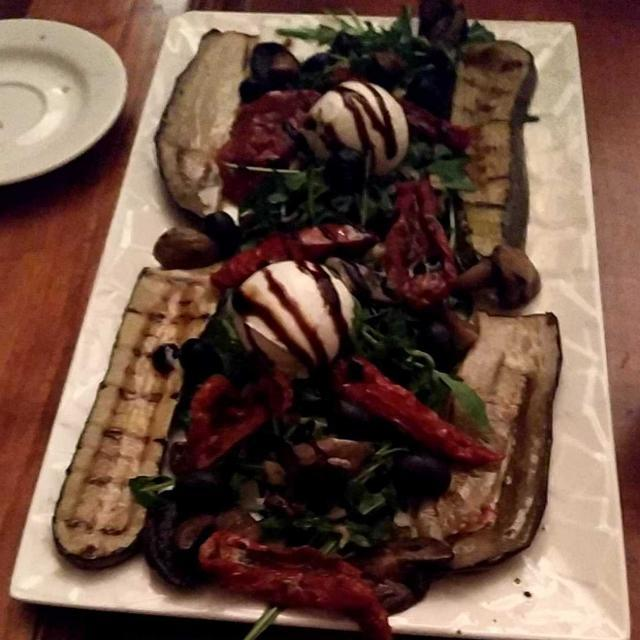balsamic-vinegar: (140, 59, 466, 554)
mixed-vegetables: (75, 31, 552, 585)
